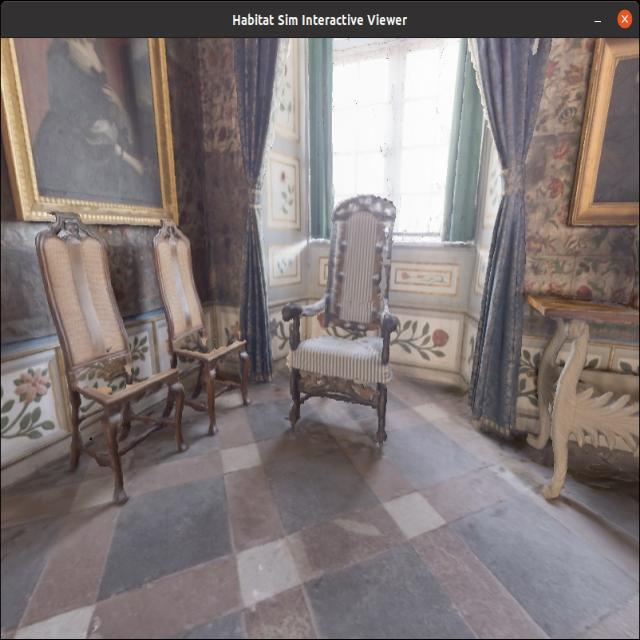chair: (20, 209, 202, 494), (275, 183, 408, 454), (156, 217, 259, 432)
